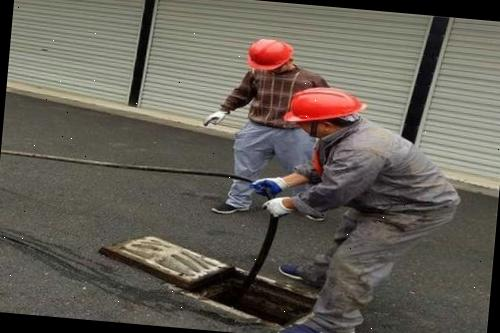helmet: (282, 82, 368, 133), (245, 36, 295, 73)
no_wear: (242, 70, 295, 130)
wear: (314, 124, 456, 226)
